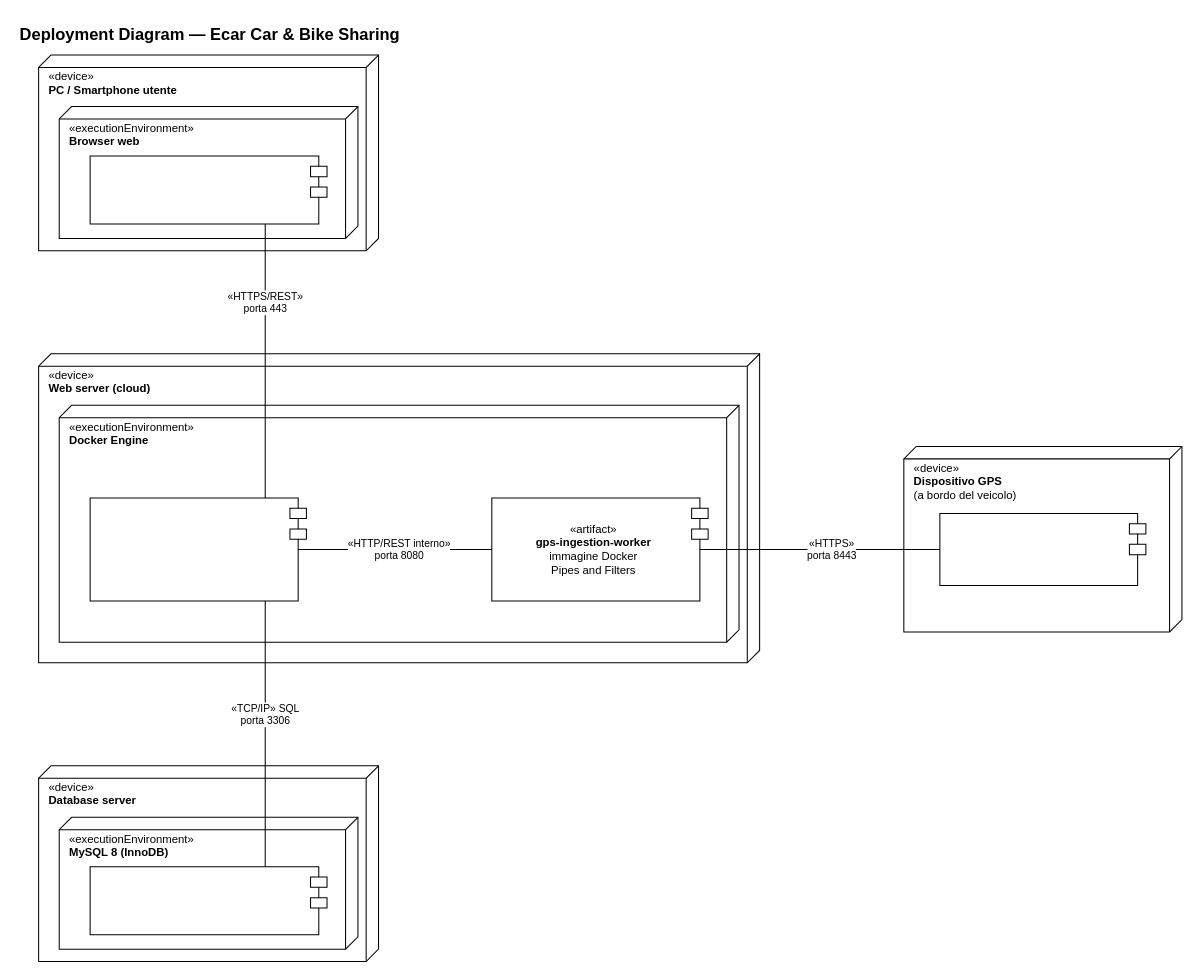
Image size: 1200x980. Some labels were removed from this diagram. The shapes that lost their labels are listed below. From the top down, each one's centre as x and y in pixels, then its label:
point 208,189: «artifact» ecar-web-app bundle.js (React)
point 197,549: «artifact» ecar-core-api immagine Docker Monolite Modulare
point 1042,549: «artifact» firmware GPS firmware.bin
point 208,900: «artifact» ecar_db schema del database
